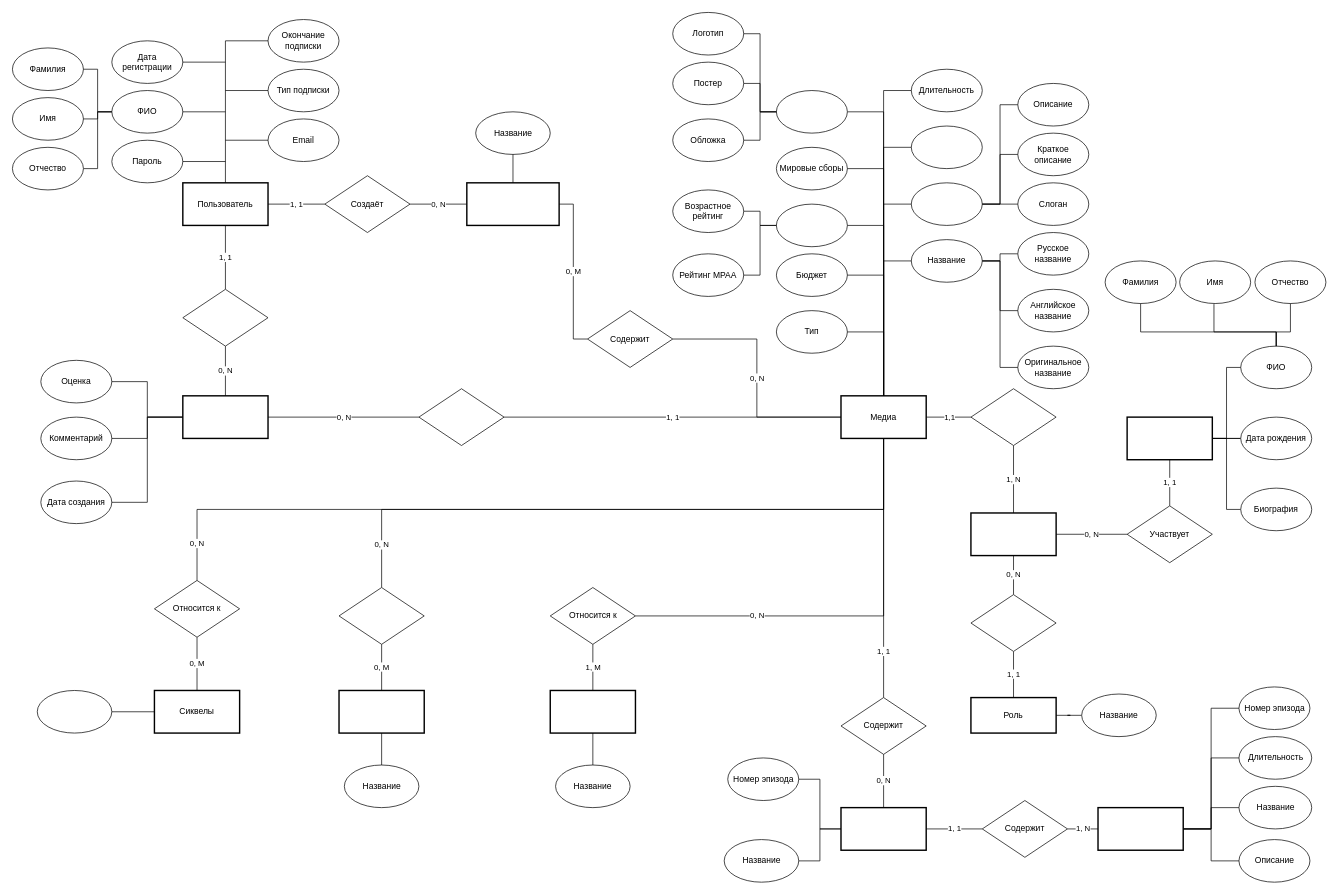
This 1338x895 diagram has some shape labels left out. Here are the shapes that lost their labels. From the top down, the box of each, then its label:
(776, 90, 847, 133): Изображения
(911, 125, 982, 169): Год выпуска
(466, 182, 559, 226): Список пользователя
(911, 182, 982, 225): О фильме
(776, 203, 847, 247): Ограничения
(182, 289, 268, 346): Пишет
(182, 395, 268, 439): Рецензия
(418, 388, 504, 446): Имеет
(970, 388, 1056, 446): Включает
(1126, 416, 1213, 460): Персона
(970, 512, 1056, 556): Роли персон
(338, 587, 424, 644): Производится в
(970, 594, 1056, 651): Определяет
(37, 690, 112, 733): Тип связи
(338, 689, 425, 733): Страна
(549, 689, 636, 733): Жанр
(840, 807, 927, 851): Сезон
(1097, 807, 1184, 851): Эпизод
